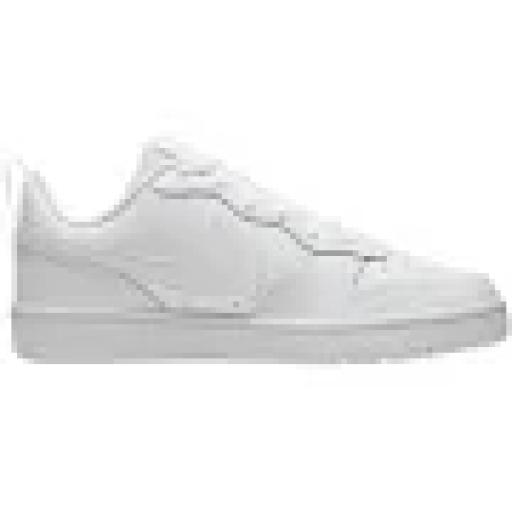shoe: (12, 142, 506, 364)
